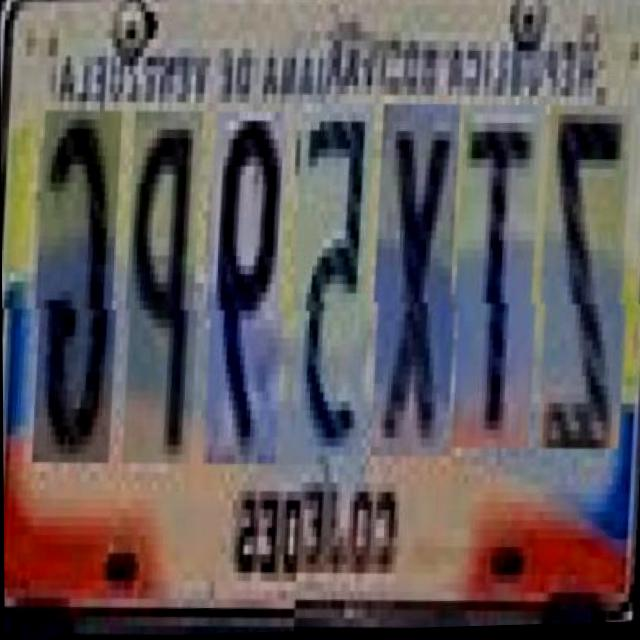5: (287, 115, 379, 471)
9: (202, 115, 294, 471)
g: (31, 113, 126, 469)
p: (121, 114, 207, 470)
t: (450, 115, 545, 463)
x: (369, 115, 464, 471)
z: (536, 115, 636, 464)
